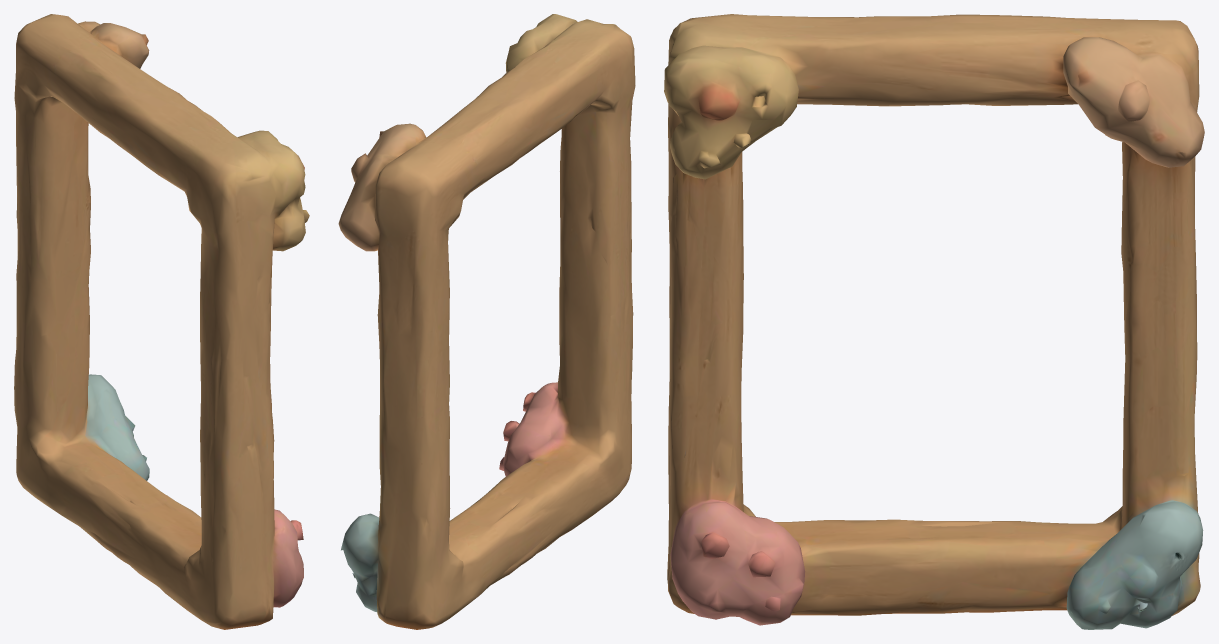
The model's file is frame.glb.
3 renders of one model, left to right at view 1: azimuth 30°, elevation 25°; view 2: azimuth 150°, elevation 25°; view 3: azimuth 270°, elevation 25°, orthographic. The views are drawn at different scales.
Parts seen in each view (by area): view 1: tripo_node_d42be4b0-efdd-4e93-b955-29c5d6e54c26; view 2: tripo_node_d42be4b0-efdd-4e93-b955-29c5d6e54c26; view 3: tripo_node_d42be4b0-efdd-4e93-b955-29c5d6e54c26.
Boxes of the visible parts, left/top/right/bottom form: tripo_node_d42be4b0-efdd-4e93-b955-29c5d6e54c26: left=14, top=14, right=309, bottom=629; tripo_node_d42be4b0-efdd-4e93-b955-29c5d6e54c26: left=338, top=14, right=635, bottom=629; tripo_node_d42be4b0-efdd-4e93-b955-29c5d6e54c26: left=664, top=14, right=1204, bottom=629.
Size of the model in its own units: 0.2341 by 1 by 0.8345.
Materials: 1 (1 with a texture image).
